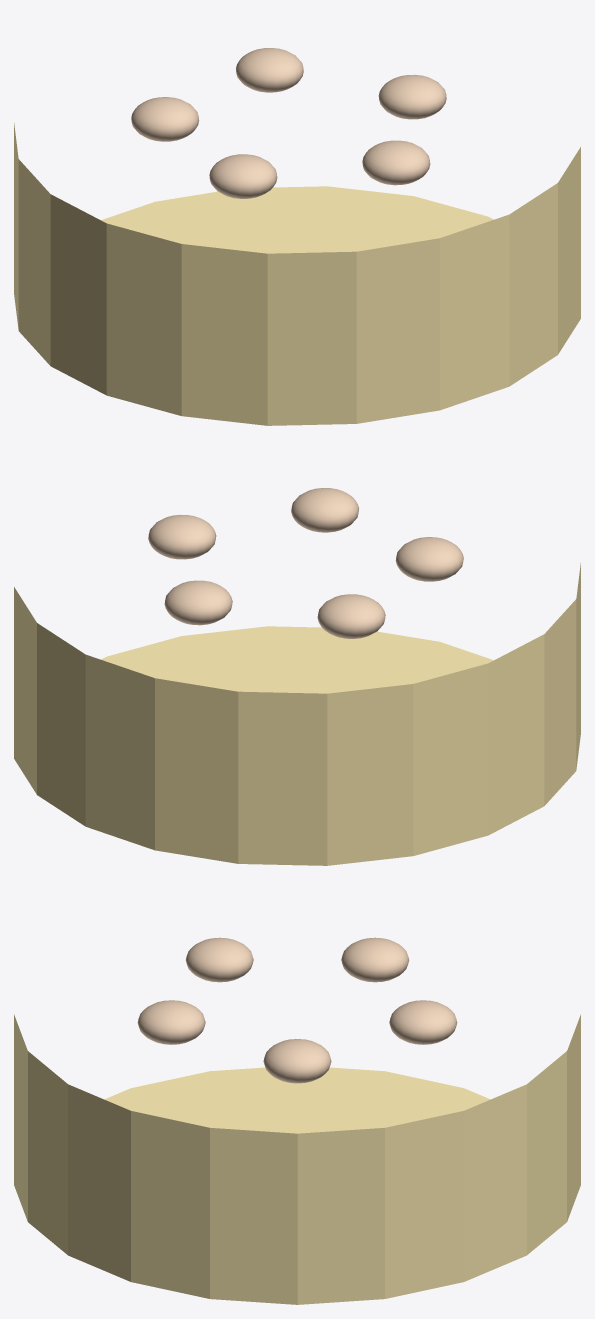
File: snack.glb
3 renders of one model, top to bottom at view 1: azimuth 30°, elevation 25°; view 2: azimuth 150°, elevation 25°; view 3: azimuth 270°, elevation 25°, orthographic.
Parts seen in each view (by area): view 1: biscuit, crumb1, crumb3, crumb0, crumb4, crumb2; view 2: biscuit, crumb4, crumb2, crumb0, crumb1, crumb3; view 3: biscuit, crumb1, crumb4, crumb0, crumb2, crumb3.
Part boxes in pixels (<box>): biscuit: <box>14,123,580,425</box>; crumb1: <box>362,140,430,185</box>; crumb3: <box>131,97,199,141</box>; crumb0: <box>378,74,446,119</box>; crumb4: <box>236,48,303,92</box>; crumb2: <box>209,154,277,198</box>; biscuit: <box>14,563,580,865</box>; crumb4: <box>164,580,232,625</box>; crumb2: <box>395,537,463,581</box>; crumb0: <box>148,514,216,559</box>; crumb1: <box>291,488,358,532</box>; crumb3: <box>317,594,385,638</box>; biscuit: <box>14,1014,580,1304</box>; crumb1: <box>137,1000,205,1044</box>; crumb4: <box>389,1000,457,1044</box>; crumb0: <box>263,1039,331,1083</box>; crumb2: <box>185,937,253,982</box>; crumb3: <box>341,937,409,982</box>.
Size of the model in its own units: 0.3 by 0.115 by 0.3.
